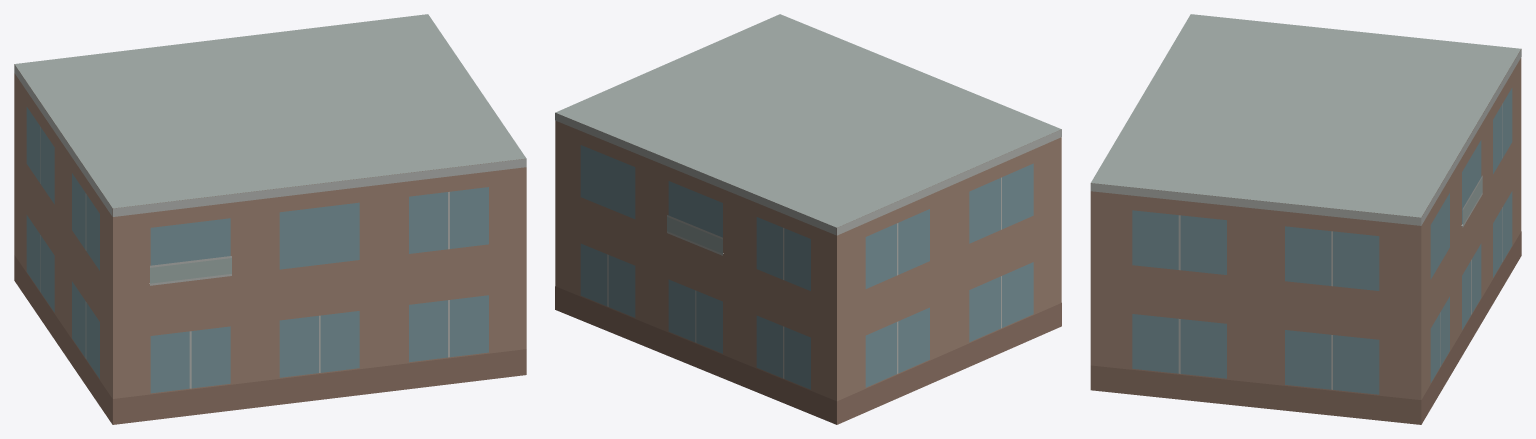
File: survey-upis-32473713.glb
3 views of the same model, side by side, from view 1: azimuth 30°, elevation 25°; view 2: azimuth 150°, elevation 25°; view 3: azimuth 270°, elevation 25° (orthographic). The views are drawn at different scales.
Visible parts, largest first — view 1: survey-upis-32473713.tmp; view 2: survey-upis-32473713.tmp; view 3: survey-upis-32473713.tmp.
Part boxes in pixels (x1,y1,x2,y2): survey-upis-32473713.tmp: [14, 14, 526, 424]; survey-upis-32473713.tmp: [555, 14, 1061, 424]; survey-upis-32473713.tmp: [1090, 14, 1521, 424].
Size of the model in its own units: 12.87 by 6.1 by 11.5.
